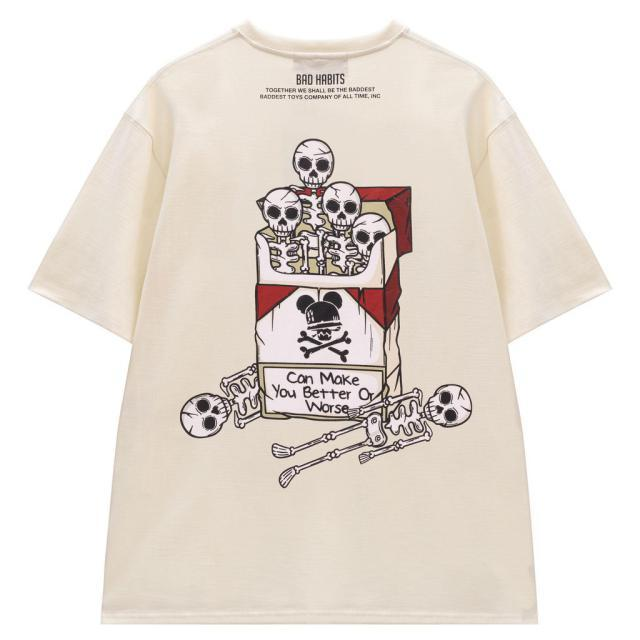Shirt: (32, 22, 615, 628)
